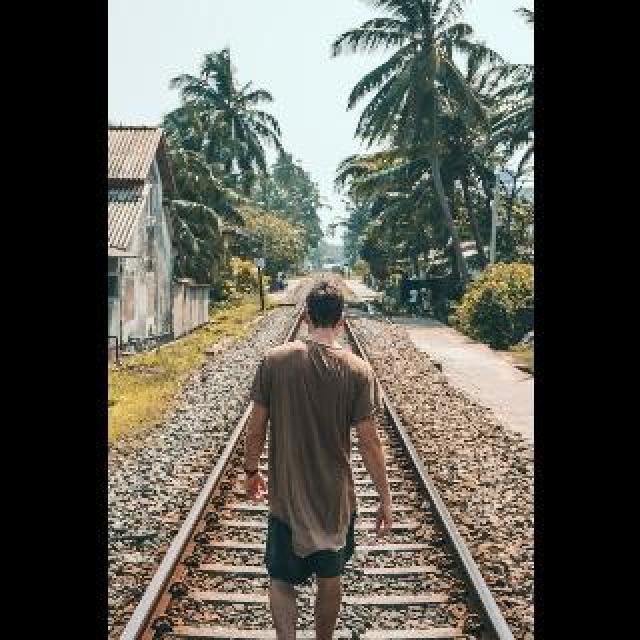people: (244, 278, 384, 640)
